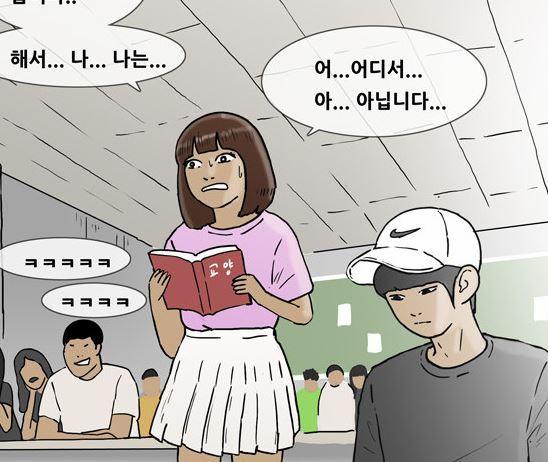hat: (344, 204, 485, 278)
